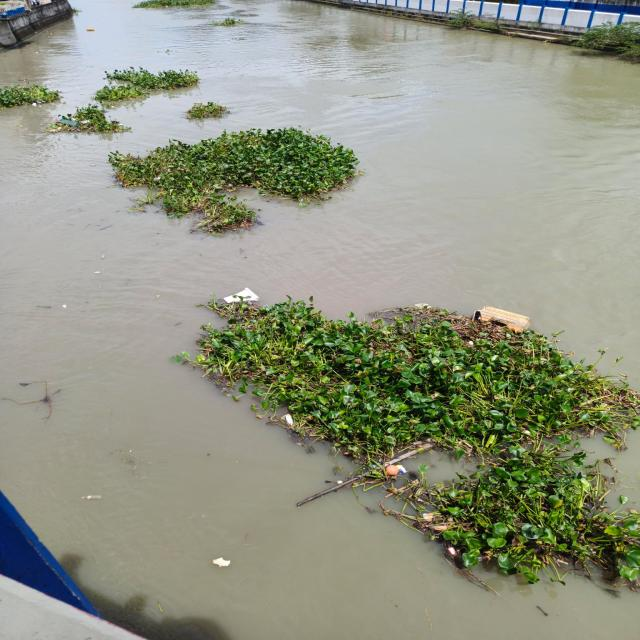Foamed Plastic: (468, 300, 538, 340), (220, 282, 264, 306), (56, 116, 80, 127), (84, 25, 97, 34), (151, 175, 163, 182)
Organic Debris: (169, 272, 640, 466), (393, 455, 640, 621), (104, 126, 374, 243), (270, 427, 457, 518), (89, 64, 206, 102), (0, 373, 70, 431), (40, 104, 137, 139), (0, 75, 68, 111), (107, 445, 174, 477), (178, 98, 233, 124), (128, 0, 222, 12), (207, 14, 249, 31), (94, 222, 118, 234), (157, 47, 179, 57), (31, 302, 55, 311), (149, 229, 174, 237)
Plastic: (74, 489, 112, 505), (208, 554, 237, 572), (422, 522, 451, 534), (410, 298, 434, 312), (280, 412, 295, 428), (394, 463, 409, 476), (446, 546, 460, 558), (366, 461, 383, 468), (98, 252, 108, 262), (85, 162, 100, 168), (60, 302, 70, 311), (126, 186, 138, 193), (397, 488, 409, 495), (53, 125, 65, 131), (91, 269, 102, 275), (79, 119, 92, 124), (30, 101, 38, 108), (68, 117, 78, 122), (80, 308, 86, 313), (99, 284, 102, 290)
Rubber: (382, 461, 402, 479)
